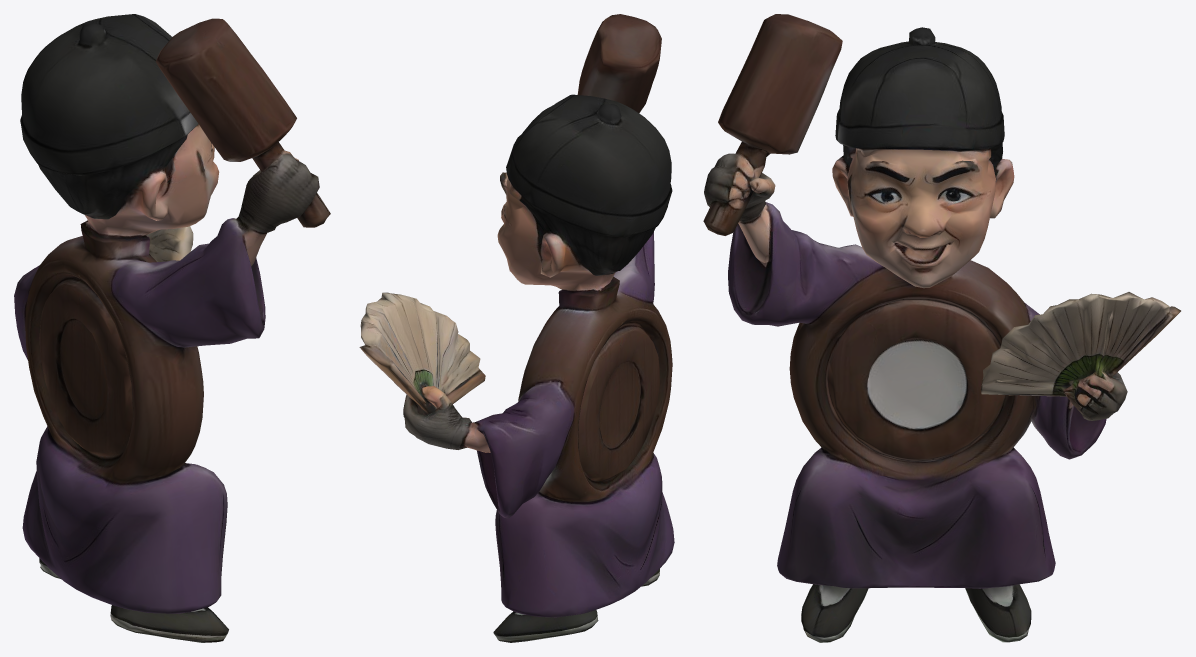
File: a_teller.glb
3 views of the same model, side by side, from view 1: azimuth 30°, elevation 25°; view 2: azimuth 150°, elevation 25°; view 3: azimuth 270°, elevation 25° (orthographic). The views are drawn at different scales.
Parts seen in each view (by area): view 1: tripo_node_0c175694-02f0-43e4-9a13-1891b03ce8be; view 2: tripo_node_0c175694-02f0-43e4-9a13-1891b03ce8be; view 3: tripo_node_0c175694-02f0-43e4-9a13-1891b03ce8be.
Part boxes in pixels (left/top/right/bottom): tripo_node_0c175694-02f0-43e4-9a13-1891b03ce8be: left=14, top=14, right=330, bottom=642; tripo_node_0c175694-02f0-43e4-9a13-1891b03ce8be: left=359, top=14, right=674, bottom=642; tripo_node_0c175694-02f0-43e4-9a13-1891b03ce8be: left=703, top=14, right=1180, bottom=642.
Size of the model in its own units: 0.3855 by 1 by 0.707.
Materials: 1 (1 with a texture image).
